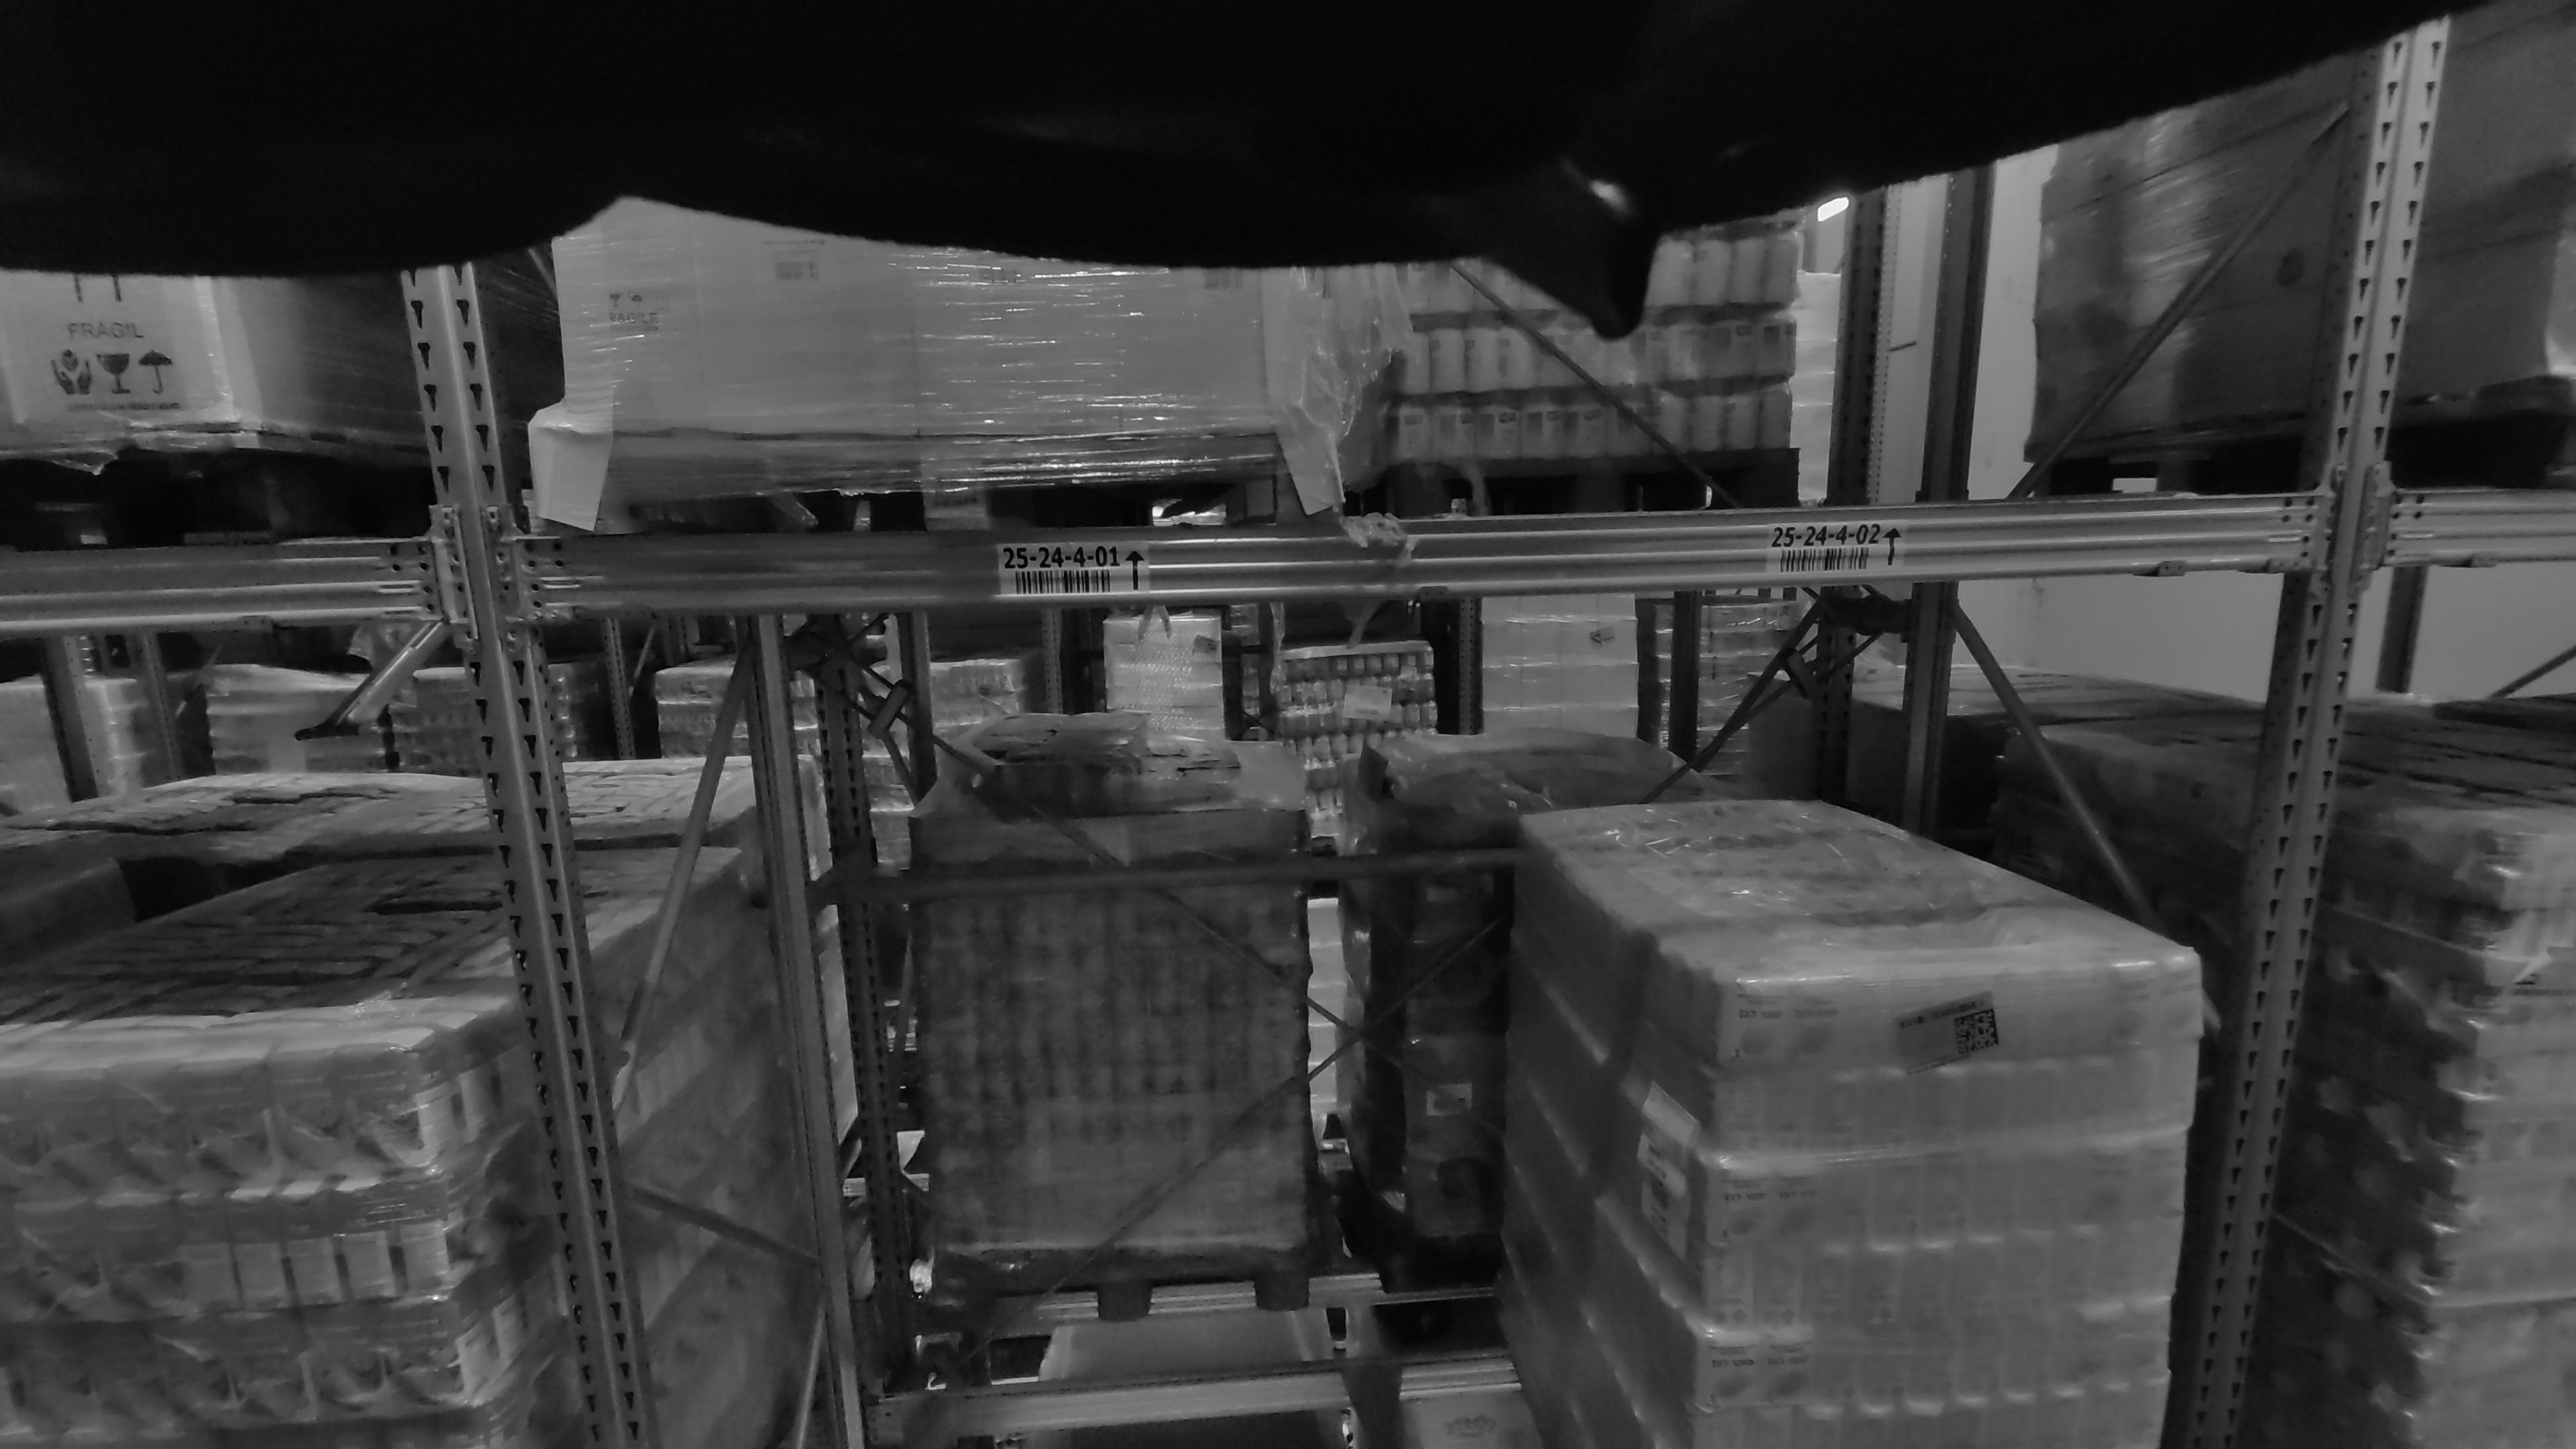empty-shelf: (770, 609, 1472, 1449)
